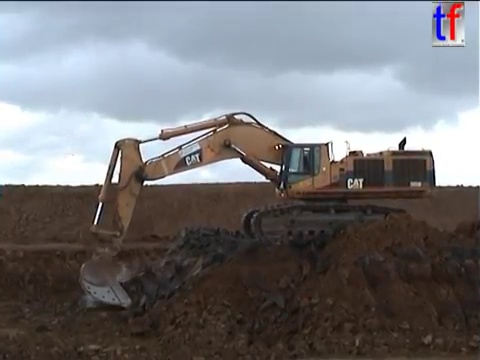excavator: (75, 109, 439, 311)
